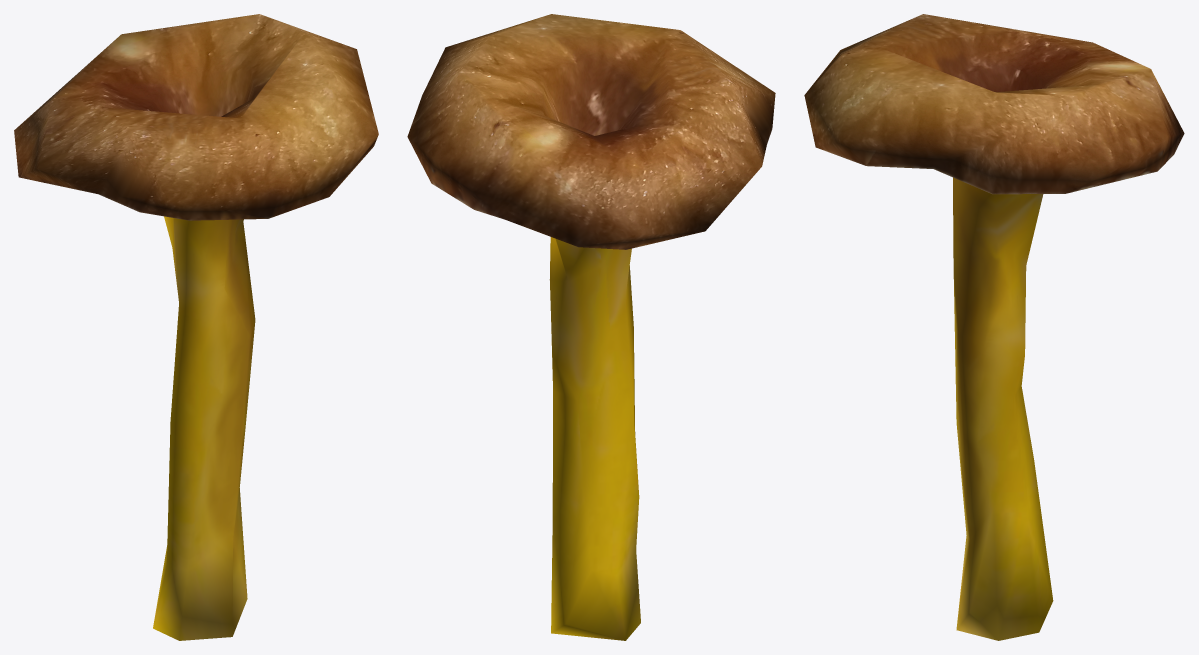
File: Suppilovahvero.glb
3 views of the same model, side by side, from view 1: azimuth 30°, elevation 25°; view 2: azimuth 150°, elevation 25°; view 3: azimuth 270°, elevation 25° (orthographic). The views are drawn at different scales.
Visible parts, largest first — view 1: Cube; view 2: Cube; view 3: Cube.
Boxes of the visible parts, bbox=[...] form: Cube: bbox=[14, 14, 378, 640]; Cube: bbox=[407, 14, 775, 640]; Cube: bbox=[804, 14, 1184, 640].
Bounding box in the file's own units: 0.5794 × 0.967 × 0.5715.
1 material, 1 textured.
